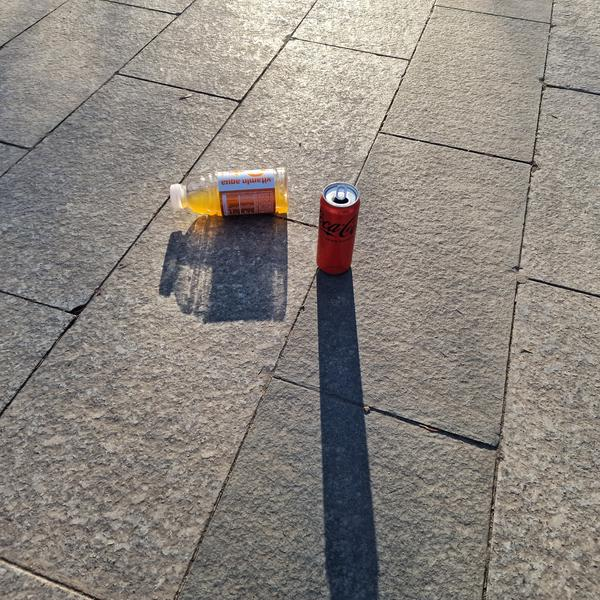can: (314, 179, 363, 277)
plastic_bottle: (167, 166, 290, 221)
